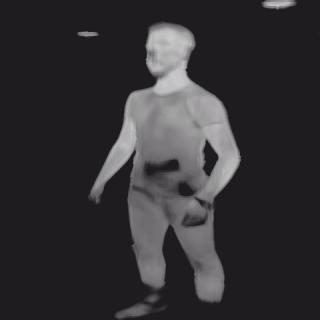Gun: (143, 158, 181, 178)
